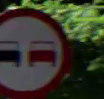No overtake: (0, 7, 70, 98)
